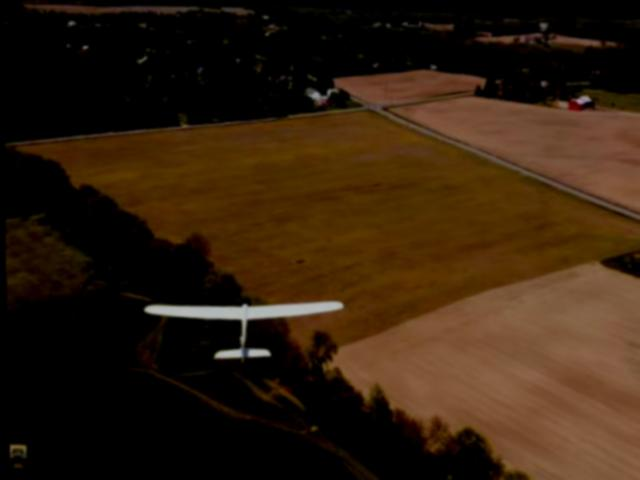uav: (136, 278, 350, 377)
